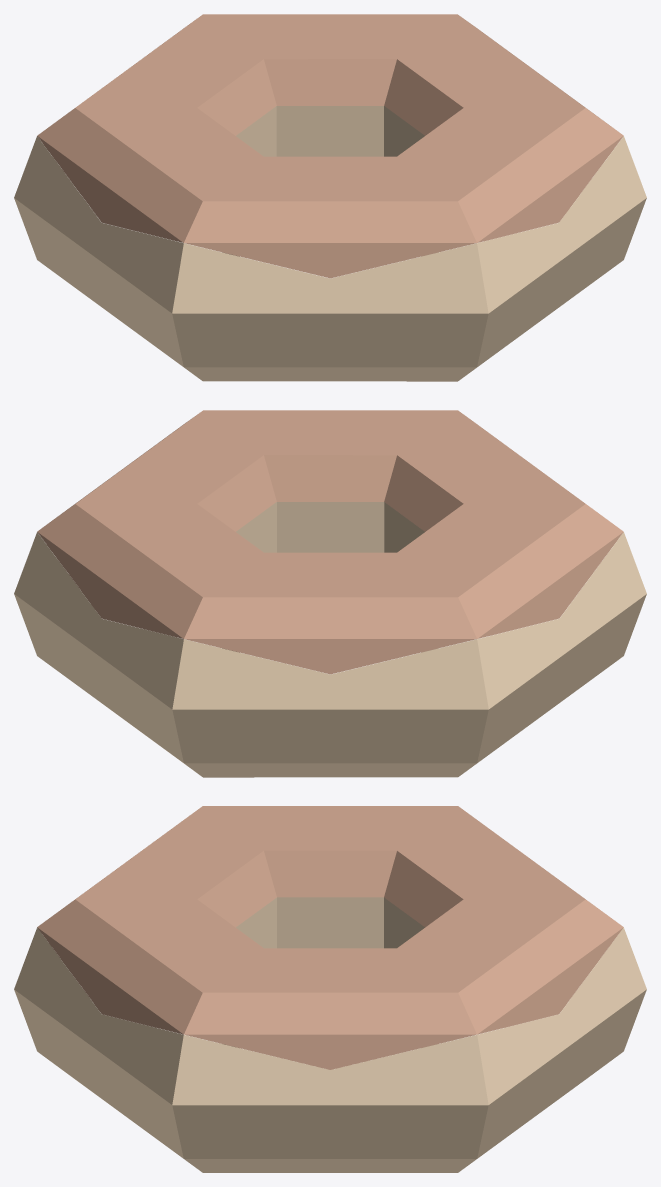
Rendered from donut-chocolate.glb.
The picture shows the model from 3 angles, top to bottom: view 1: azimuth 30°, elevation 25°; view 2: azimuth 150°, elevation 25°; view 3: azimuth 270°, elevation 25°; orthographic projection.
Parts seen in each view (by area): view 1: donutChocolate; view 2: donutChocolate; view 3: donutChocolate.
Boxes of the visible parts, left/top/right/bottom form: donutChocolate: left=14, top=14, right=646, bottom=381; donutChocolate: left=14, top=410, right=646, bottom=777; donutChocolate: left=14, top=806, right=646, bottom=1172.
Size of the model in its own units: 0.2451 by 0.0889 by 0.283.
